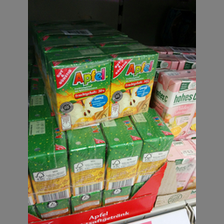juice: (42, 46, 112, 131), (101, 42, 160, 119), (156, 70, 195, 136)
